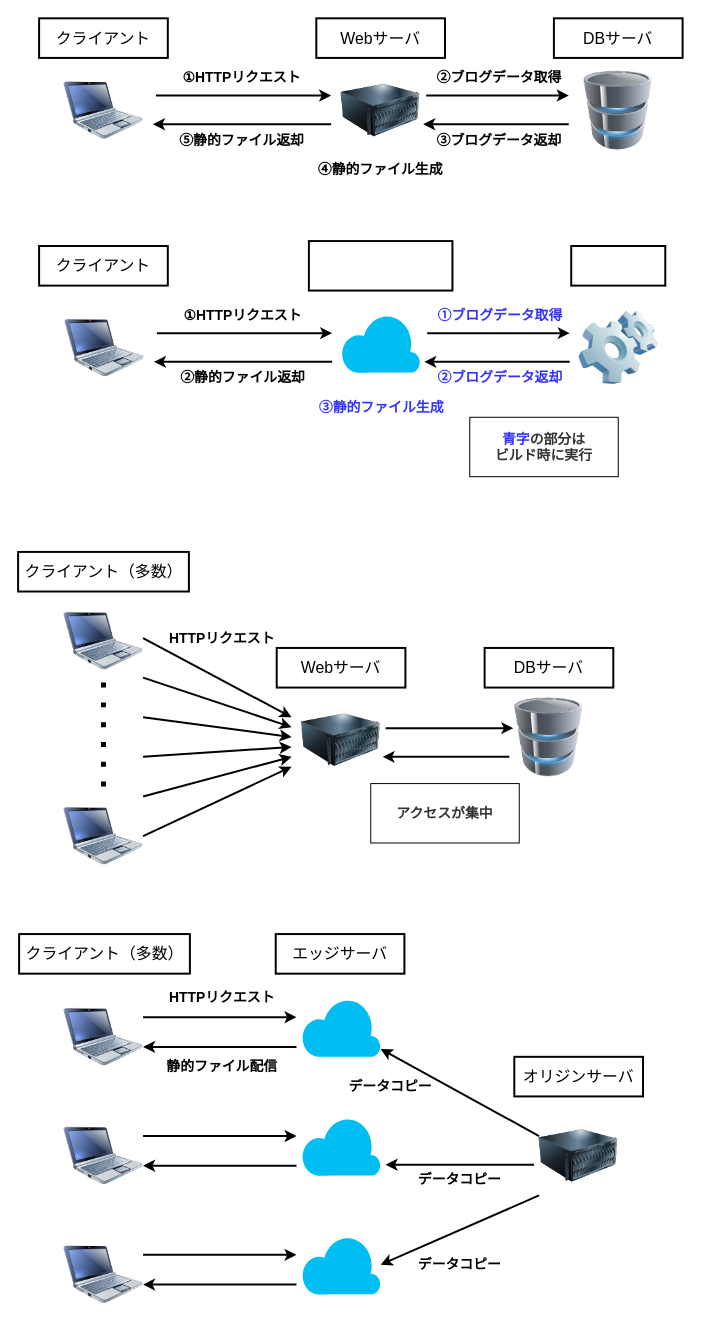
This 701x1331 diagram has some shape labels left out. The centre of each missing label's shape, as x and y in pixels:
"API" belongs at (x=618, y=265).
"Webサーバ(CDN) 世界中に分散" belongs at (x=380, y=265).
